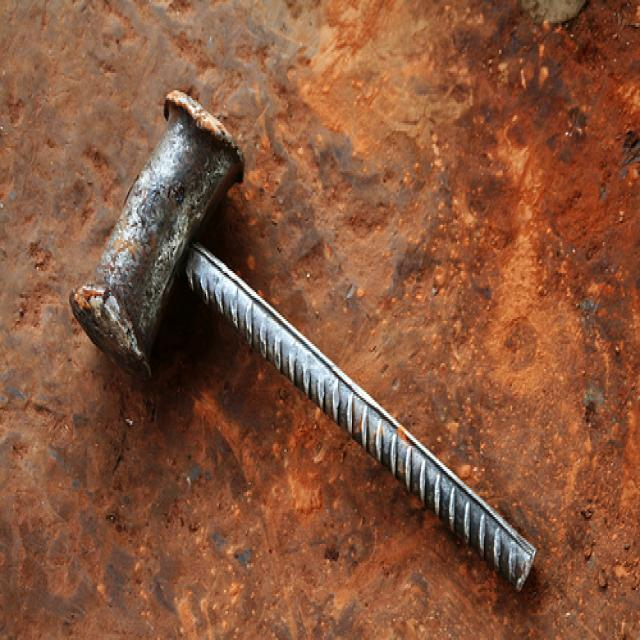hammer: (63, 76, 547, 602)
